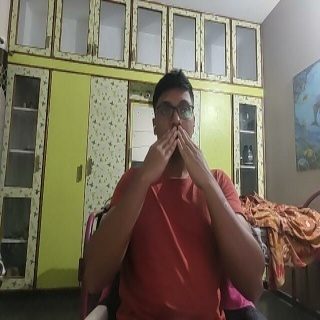Thank You: (137, 124, 218, 190)
